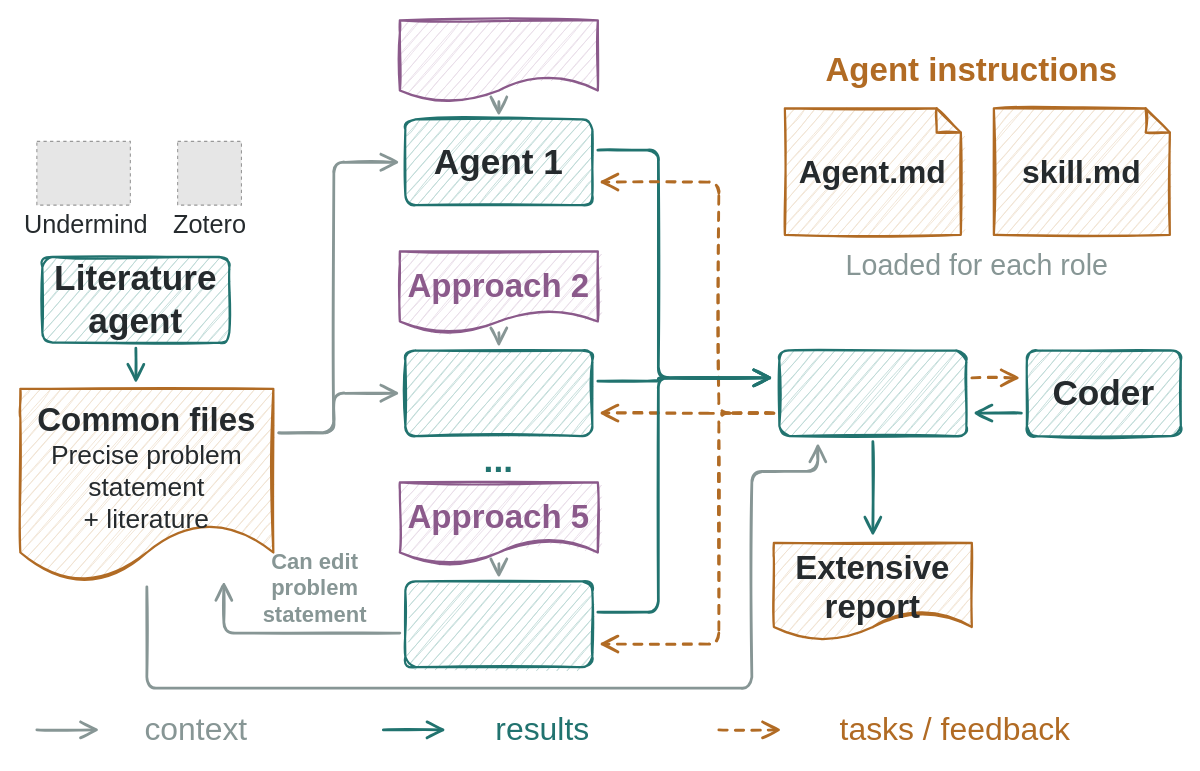
This 1200x771 diagram has some shape labels left out. Grey dashed boxes stand in for pictures. Each missing label, with the centre of its shape:
Agent 2: the point at 498,393
Agent 5: the point at 498,624
Approach 1: the point at 498,61
Critical reviewer: the point at 872,393
